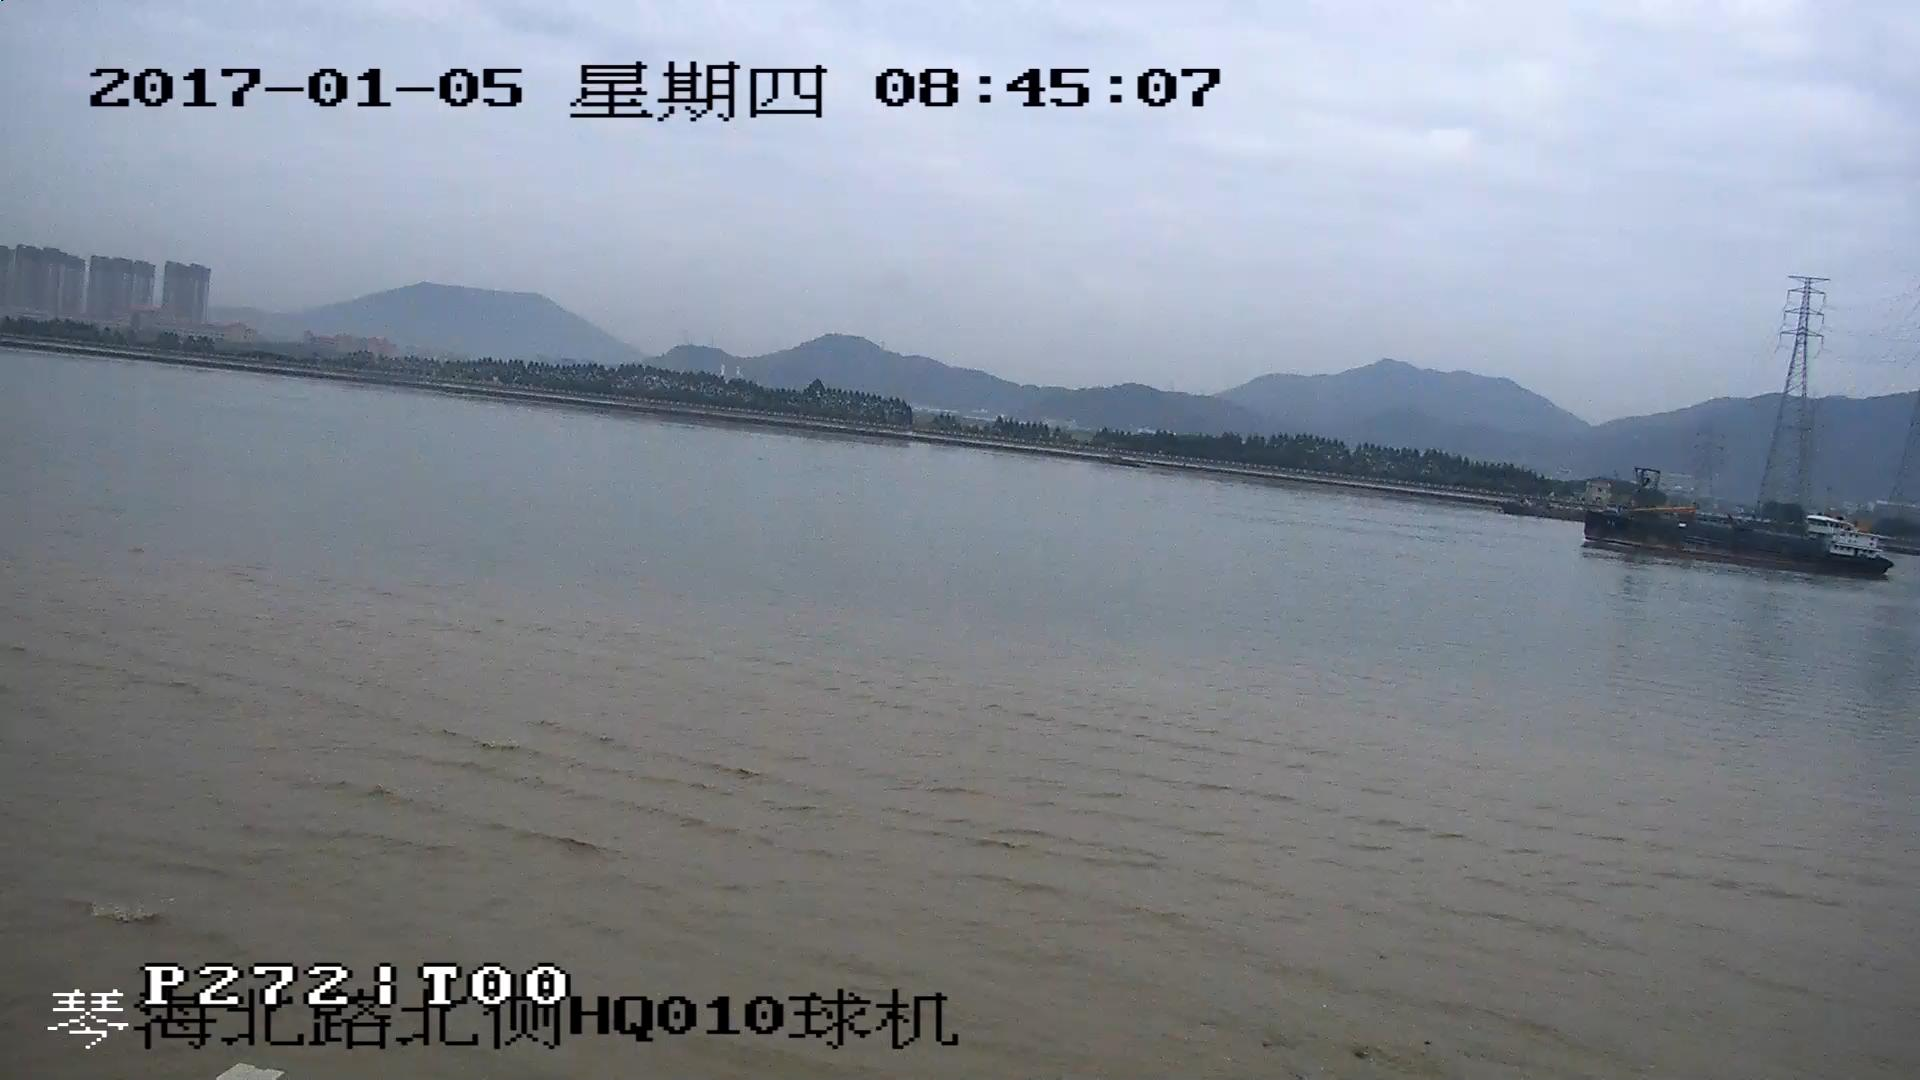bulk cargo carrier: (1584, 470, 1882, 582)
